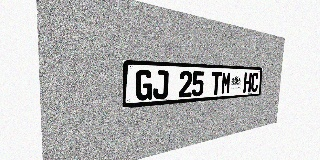2: (179, 71, 192, 98)
5: (192, 71, 204, 97)
C: (250, 73, 259, 92)
G: (135, 70, 153, 101)
H: (243, 72, 252, 93)
J: (153, 70, 169, 100)
M: (221, 72, 231, 94)
T: (211, 72, 222, 95)
